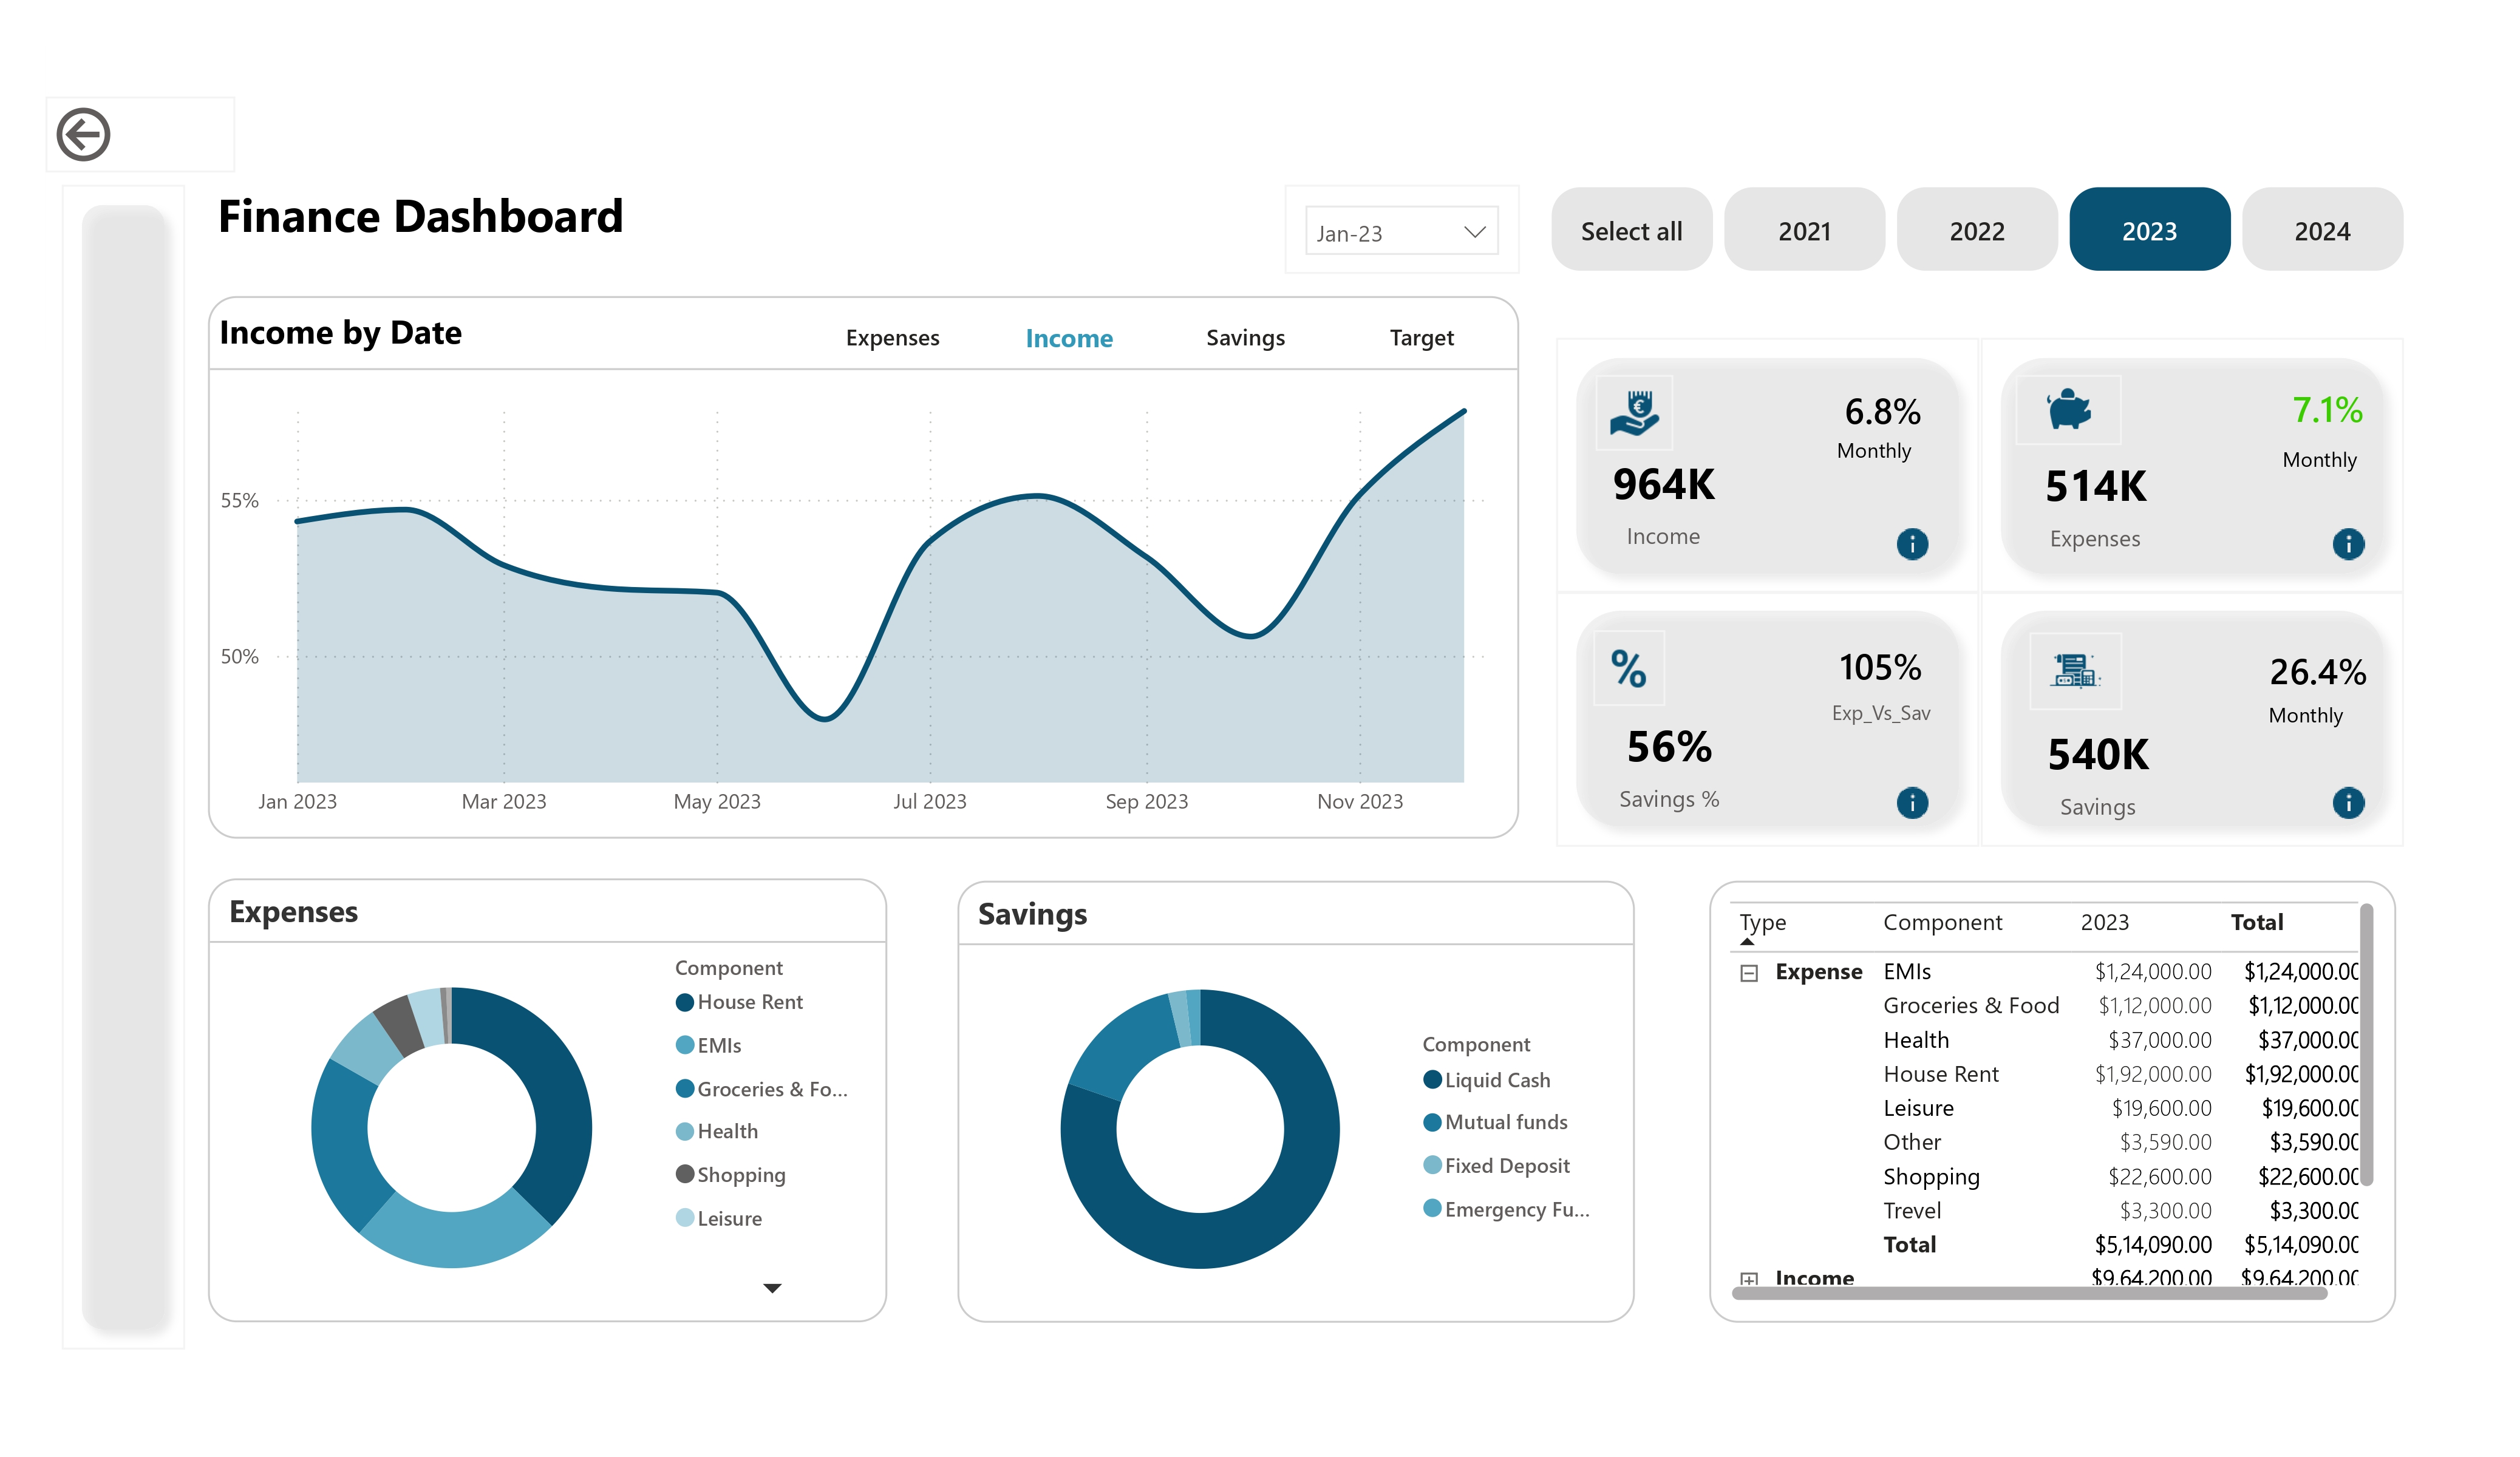

The dashboard page shown, as its layout file describes it:
{"tool":"powerbi","page":{"name":"Page 1","canvas":[1280,720],"ordinal":0},"visuals":[{"type":"shape","box":[1020.2,286.9,222.7,135.4],"z":0},{"type":"shape","box":[795.5,286.9,222.7,135.4],"z":1000},{"type":"shape","box":[1020.2,153.5,222.7,135.4],"z":2000},{"type":"card","fields":{"Values":["Dataset.Savings"]},"box":[1029.2,339.1,104.3,87.3],"z":3000},{"type":"card","fields":{"Values":["Dataset.Expenses"]},"box":[1047.3,206.6,67.2,68.2],"z":4000},{"type":"card","fields":{"Values":["Dataset.Savings%"]},"box":[805.5,337.1,100.3,81.3],"z":5000},{"type":"advancedSlicerVisual","title":"Year","fields":{"Values":["Dataset.Year"]},"box":[788.9,69.2,462.4,54.5],"z":6000},{"type":"donutChart","title":"Savings","fields":{"Y":["Dataset.Savings"],"Category":["Dataset.Component"]},"box":[480.5,440.4,357.1,232.7],"z":7000},{"type":"donutChart","title":"Expenses","fields":{"Y":["Dataset.Expenses"],"Category":["Dataset.Component"]},"box":[85.3,439.4,358.1,233.7],"z":8000},{"type":"pivotTable","fields":{"Values":["Dataset.Total_Value"],"Rows":["Dataset.Type","Dataset.Component"],"Columns":["Dataset.Year"]},"box":[876.7,440.4,362.1,232.7],"z":9000},{"type":"shape","box":[795.5,153.5,222.7,135.4],"z":10000},{"type":"areaChart","fields":{"Category":["Dataset.Date"],"Y":["Dataset.Line_Chart_Measures"]},"box":[85.3,132.4,691.2,285.9],"z":11000},{"type":"advancedSlicerVisual","fields":{"Values":["Line_Selection_Table.Type"]},"box":[398.5,132.5,377.7,42.8],"z":12000},{"type":"actionButton","box":[0,27.1,100.3,40.1],"z":13000},{"type":"textbox","box":[85.1,67.3,239.5,52.6],"z":14000},{"type":"card","fields":{"Values":["Dataset.Income"]},"box":[802.5,198.6,101.3,83.3],"z":15000},{"type":"slicer","fields":{"Values":["Selected_Date.Month-Yr"]},"box":[652.6,73.1,123.6,46.7],"z":16000},{"type":"card","fields":{"Values":["Dataset.Expenses_Monthly_Gr"]},"box":[1162.1,176.6,83.3,34.1],"z":17000},{"type":"card","fields":{"Values":["Dataset.Savings_Monthly_Gr"]},"box":[1167.1,314.1,63.2,34.1],"z":18000},{"type":"card","fields":{"Values":["Dataset.Ex_Vs_Sav"]},"box":[917.3,302,101.3,67.2],"z":19000},{"type":"card","fields":{"Values":["Dataset.Income_Monthly_Gr"]},"box":[906.3,147.5,125.4,92.3],"z":20000,"group":"g1"},{"type":"textbox","box":[1174.1,203.7,60.2,31.1],"z":20000},{"type":"textbox","box":[1167.1,339.1,68.2,31.1],"z":21000},{"type":"group","id":"g1","title":"Group 2","box":[906.3,147.5,125.4,92.3],"z":22000},{"type":"textbox","box":[939.2,198.3,68.2,31.1],"z":22001,"group":"g1"},{"type":"image","box":[816.6,173.5,41.1,40.1],"z":23000},{"type":"image","box":[815.5,308,38.1,40.1],"z":24000},{"type":"image","box":[1045.3,310,49.2,41.1],"z":25000},{"type":"image","box":[1038.2,173.5,56.2,37.1],"z":26000},{"type":"shape","box":[9,73.2,65.2,613.9],"z":27000},{"type":"image","box":[968,383.2,31.1,33.1],"z":28000},{"type":"image","box":[968,243.8,31.1,38.1],"z":29000},{"type":"image","box":[1198.7,383.2,31.1,33.1],"z":30000},{"type":"image","box":[1198.7,243.8,31.1,38.1],"z":31000}]}

Visuals, with their boxes on the page's 1280x720 design canvas (x1, y1, x2, y2). These are canvas units, not pixel positions in the 2520x1457 screenshot, which may show the page scaled, cropped or inside an application window:
shape: rect(1020, 287, 1243, 422)
shape: rect(796, 287, 1018, 422)
shape: rect(1020, 154, 1243, 289)
card - Dataset.Savings: rect(1029, 339, 1134, 426)
card - Dataset.Expenses: rect(1047, 207, 1114, 275)
card - Dataset.Savings%: rect(806, 337, 906, 418)
"Year" advancedSlicerVisual: rect(789, 69, 1251, 124)
"Savings" donutChart: rect(480, 440, 838, 673)
"Expenses" donutChart: rect(85, 439, 443, 673)
pivotTable - Dataset.Total_Value x Dataset.Type: rect(877, 440, 1239, 673)
shape: rect(796, 154, 1018, 289)
areaChart - Dataset.Date x Dataset.Line_Chart_Measures: rect(85, 132, 776, 418)
advancedSlicerVisual - Line_Selection_Table.Type: rect(398, 132, 776, 175)
actionButton: rect(0, 27, 100, 67)
textbox: rect(85, 67, 325, 120)
card - Dataset.Income: rect(802, 199, 904, 282)
slicer - Selected_Date.Month-Yr: rect(653, 73, 776, 120)
card - Dataset.Expenses_Monthly_Gr: rect(1162, 177, 1245, 211)
card - Dataset.Savings_Monthly_Gr: rect(1167, 314, 1230, 348)
card - Dataset.Ex_Vs_Sav: rect(917, 302, 1019, 369)
card - Dataset.Income_Monthly_Gr: rect(906, 148, 1032, 240)
textbox: rect(1174, 204, 1234, 235)
textbox: rect(1167, 339, 1235, 370)
"Group 2" group: rect(906, 148, 1032, 240)
textbox: rect(939, 198, 1007, 229)
image: rect(817, 174, 858, 214)
image: rect(816, 308, 854, 348)
image: rect(1045, 310, 1094, 351)
image: rect(1038, 174, 1094, 211)
shape: rect(9, 73, 74, 687)
image: rect(968, 383, 999, 416)
image: rect(968, 244, 999, 282)
image: rect(1199, 383, 1230, 416)
image: rect(1199, 244, 1230, 282)
